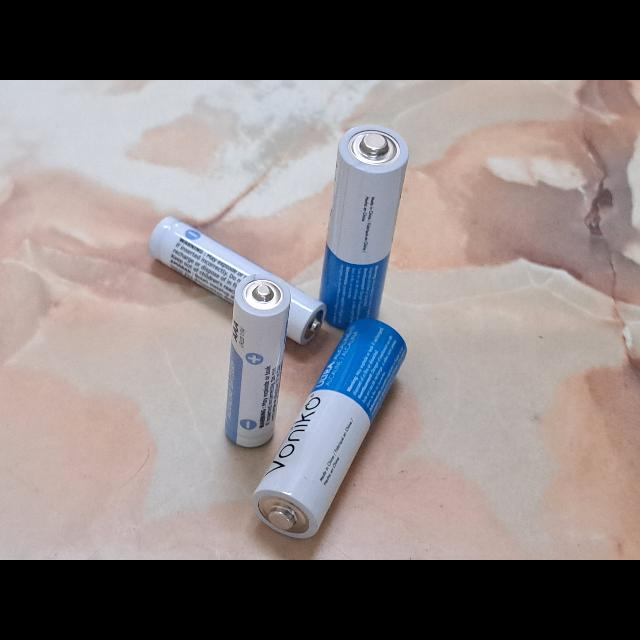bateria: (250, 321, 410, 541), (148, 214, 326, 346), (318, 124, 412, 330), (225, 274, 291, 446)
